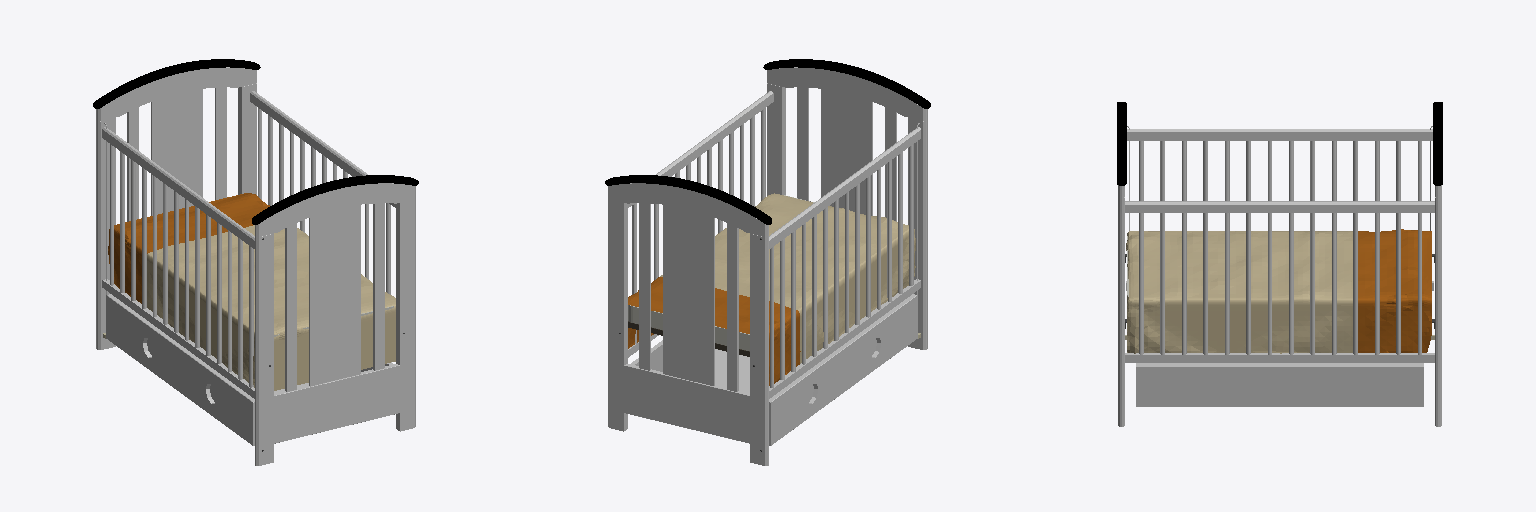
The model's file is cuna.obj.
The picture shows the model from 3 angles: view 1: azimuth 30°, elevation 25°; view 2: azimuth 150°, elevation 25°; view 3: azimuth 270°, elevation 25°; orthographic projection.
Parts seen in each view (by area): view 1: crib:Mesh; view 2: crib:Mesh; view 3: crib:Mesh.
Boxes of the visible parts, x1=… form: crib:Mesh: x1=93, y1=59, x2=418, y2=465; crib:Mesh: x1=605, y1=59, x2=930, y2=465; crib:Mesh: x1=1117, y1=102, x2=1442, y2=426.
Bounding box in the file's own units: 0.728 × 1.11 × 1.24.